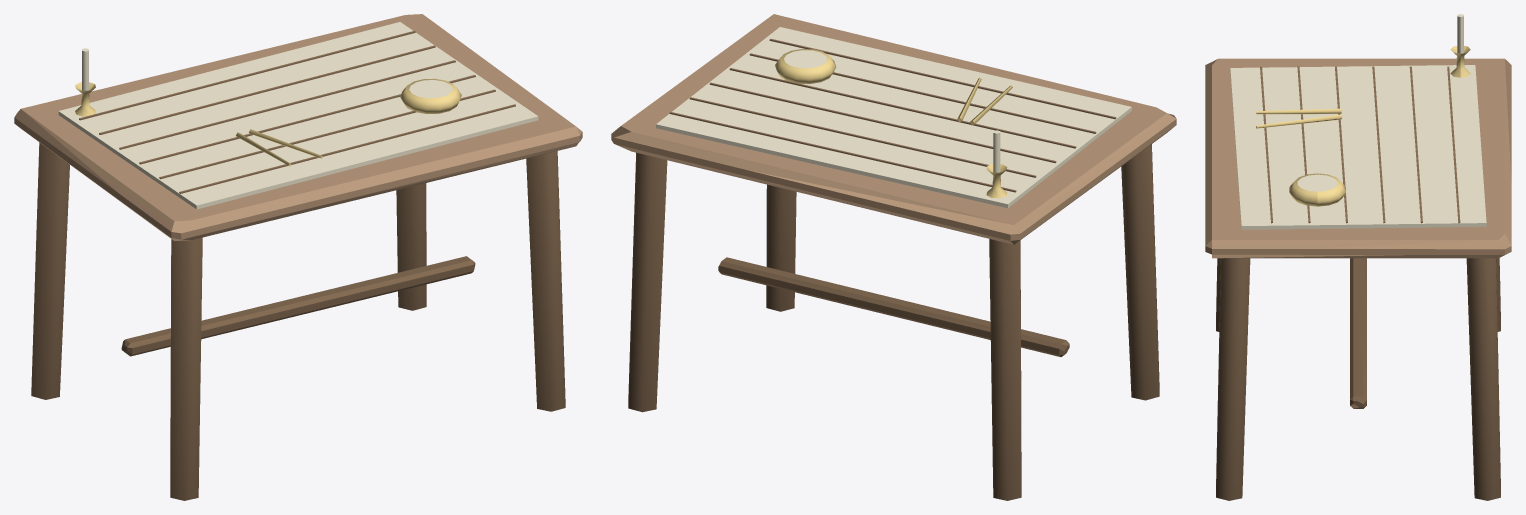
The model's file is kajuete_kartentisch.glb.
3 views of the same model, side by side, from view 1: azimuth 30°, elevation 25°; view 2: azimuth 150°, elevation 25°; view 3: azimuth 270°, elevation 25° (orthographic). The views are drawn at different scales.
Parts seen in each view (by area): view 1: G_kajuete_kartentisch; view 2: G_kajuete_kartentisch; view 3: G_kajuete_kartentisch.
Boxes of the visible parts, bbox=[...] form: G_kajuete_kartentisch: bbox=[14, 14, 582, 500]; G_kajuete_kartentisch: bbox=[611, 14, 1176, 500]; G_kajuete_kartentisch: bbox=[1205, 14, 1511, 500].
Size of the model in its own units: 1.3 by 1.05 by 0.9.
